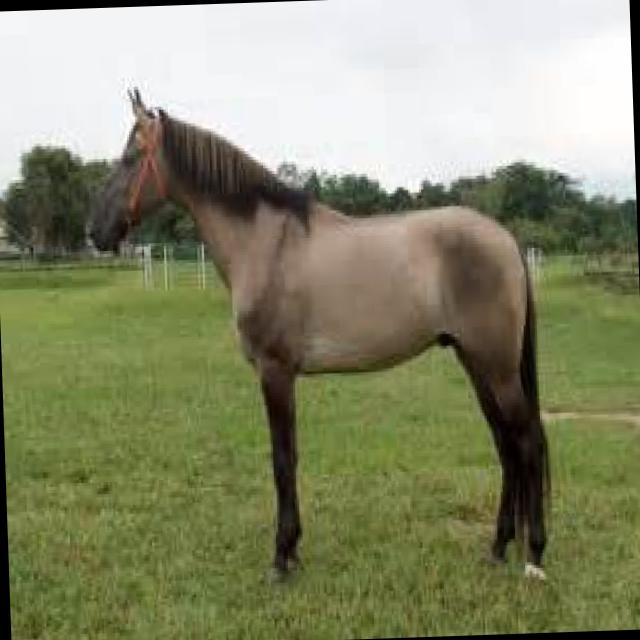horse: (80, 70, 556, 598)
